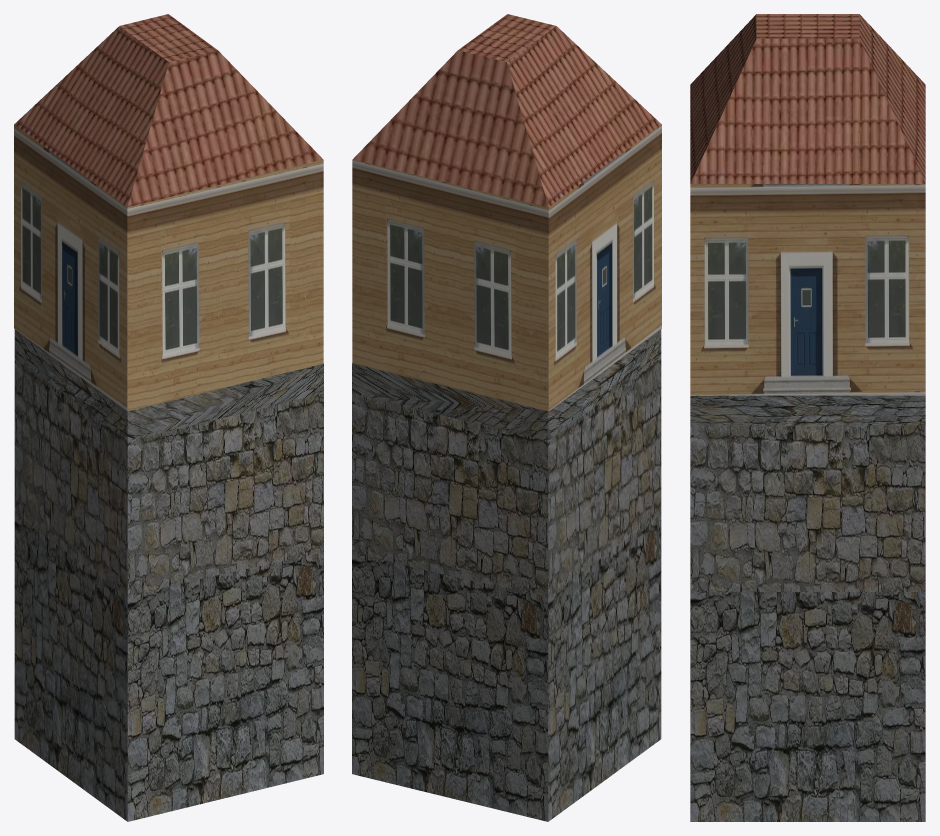
Rendered from woodcutter.glb.
3 renders of one model, left to right at view 1: azimuth 30°, elevation 25°; view 2: azimuth 150°, elevation 25°; view 3: azimuth 270°, elevation 25°, orthographic. The views are drawn at different scales.
Visible parts, largest first — view 1: Cube.001, Cube; view 2: Cube.001, Cube; view 3: Cube.001, Cube.
Part boxes in pixels (bbox=[...]): Cube.001: bbox=[14, 329, 323, 821]; Cube: bbox=[14, 14, 323, 411]; Cube.001: bbox=[352, 329, 661, 821]; Cube: bbox=[352, 14, 661, 411]; Cube.001: bbox=[690, 395, 925, 821]; Cube: bbox=[690, 14, 925, 395].
Bounding box in the file's own units: 1 × 3.5 × 1.
Materials: 4 (4 with a texture image).
